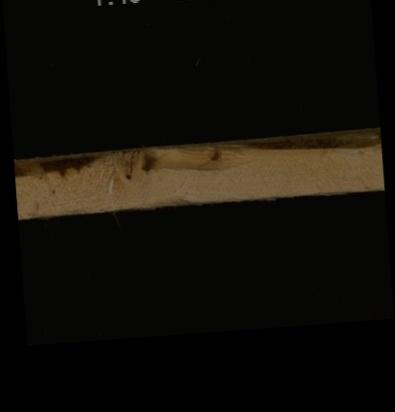wave: (13, 137, 380, 170)
